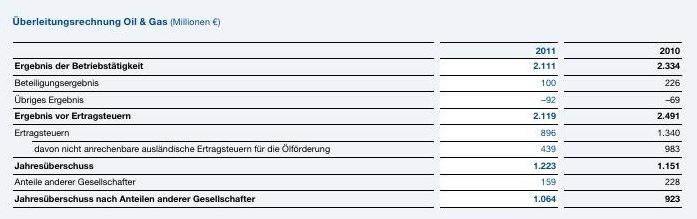table: (0, 0, 697, 219)
